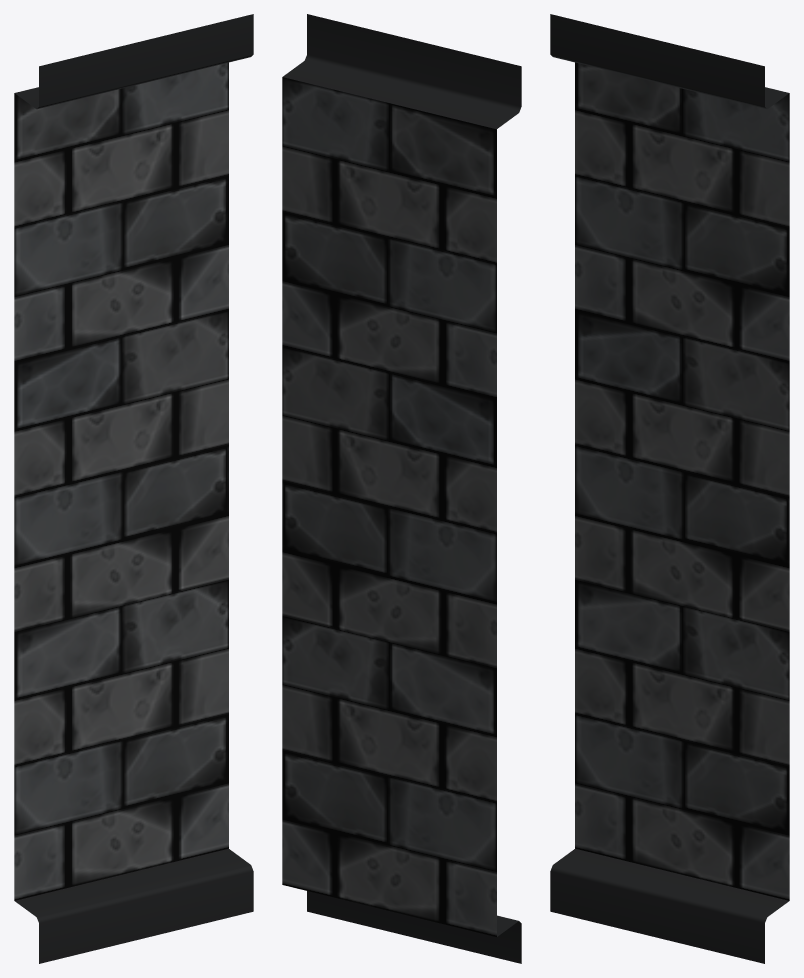
The model's file is M_Wall_Small.fbx.
The picture shows the model from 3 angles, left to right: view 1: azimuth 30°, elevation 25°; view 2: azimuth 150°, elevation 25°; view 3: azimuth 330°, elevation 25°; orthographic projection.
Visible parts, largest first — view 1: Wall_Small; view 2: Wall_Small; view 3: Wall_Small.
Part boxes in pixels (left/top/right/bottom): Wall_Small: left=14, top=14, right=253, bottom=963; Wall_Small: left=282, top=14, right=521, bottom=963; Wall_Small: left=550, top=14, right=789, bottom=963.
Size of the model in its own units: 100 by 400 by 20.
